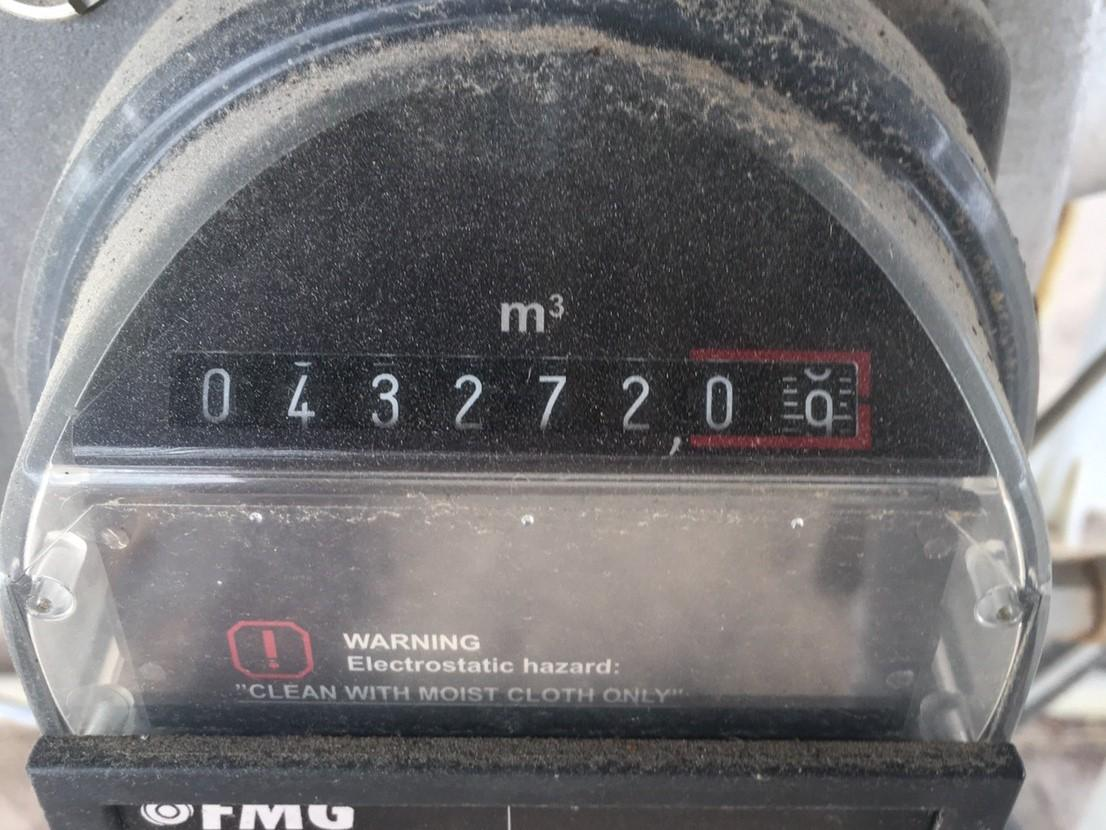analog_dial: (160, 329, 879, 455)
